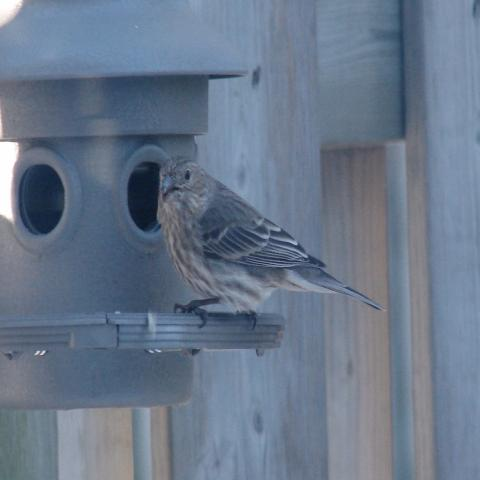bird: (153, 153, 386, 332)
